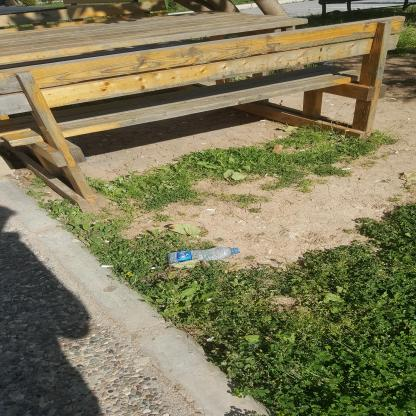Plastic: (168, 247, 240, 265)
Waste: (206, 336, 215, 341), (205, 297, 213, 302), (100, 265, 113, 267), (151, 266, 159, 269), (206, 209, 216, 211), (233, 230, 243, 232), (341, 168, 350, 170), (20, 185, 26, 188), (92, 221, 98, 224), (264, 173, 268, 177), (181, 121, 188, 123), (260, 119, 267, 121), (101, 139, 108, 141), (394, 151, 398, 154), (391, 98, 397, 100), (245, 114, 249, 117), (48, 194, 52, 197), (329, 104, 334, 106), (300, 149, 305, 151), (200, 118, 203, 121), (16, 176, 19, 179), (169, 128, 176, 129), (324, 100, 330, 101), (396, 83, 401, 84)
